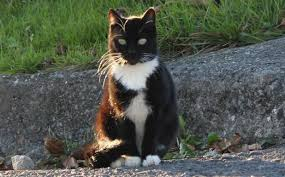cat: (66, 6, 185, 177)
